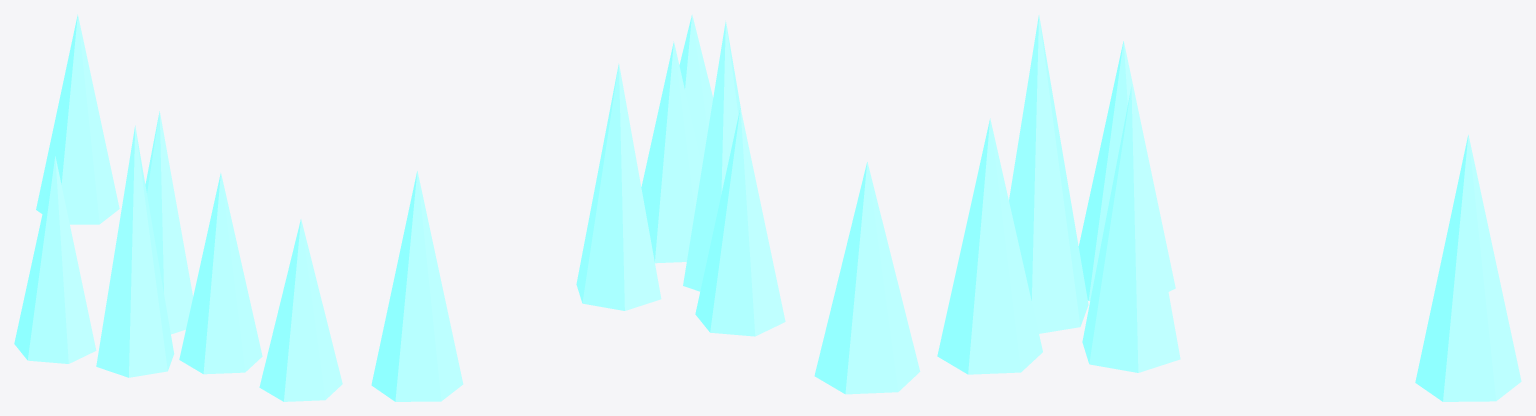
The model's file is jazida_cristal.glb.
3 views of the same model, side by side, from view 1: azimuth 30°, elevation 25°; view 2: azimuth 150°, elevation 25°; view 3: azimuth 270°, elevation 25° (orthographic). The views are drawn at different scales.
Visible parts, largest first — view 1: jazida_cristal; view 2: jazida_cristal; view 3: jazida_cristal.
Part boxes in pixels (bbox=[...]): jazida_cristal: bbox=[14, 14, 342, 401]; jazida_cristal: bbox=[371, 14, 785, 401]; jazida_cristal: bbox=[814, 15, 1521, 401].
Size of the model in its own units: 0.3094 by 0.3102 by 0.6648.
